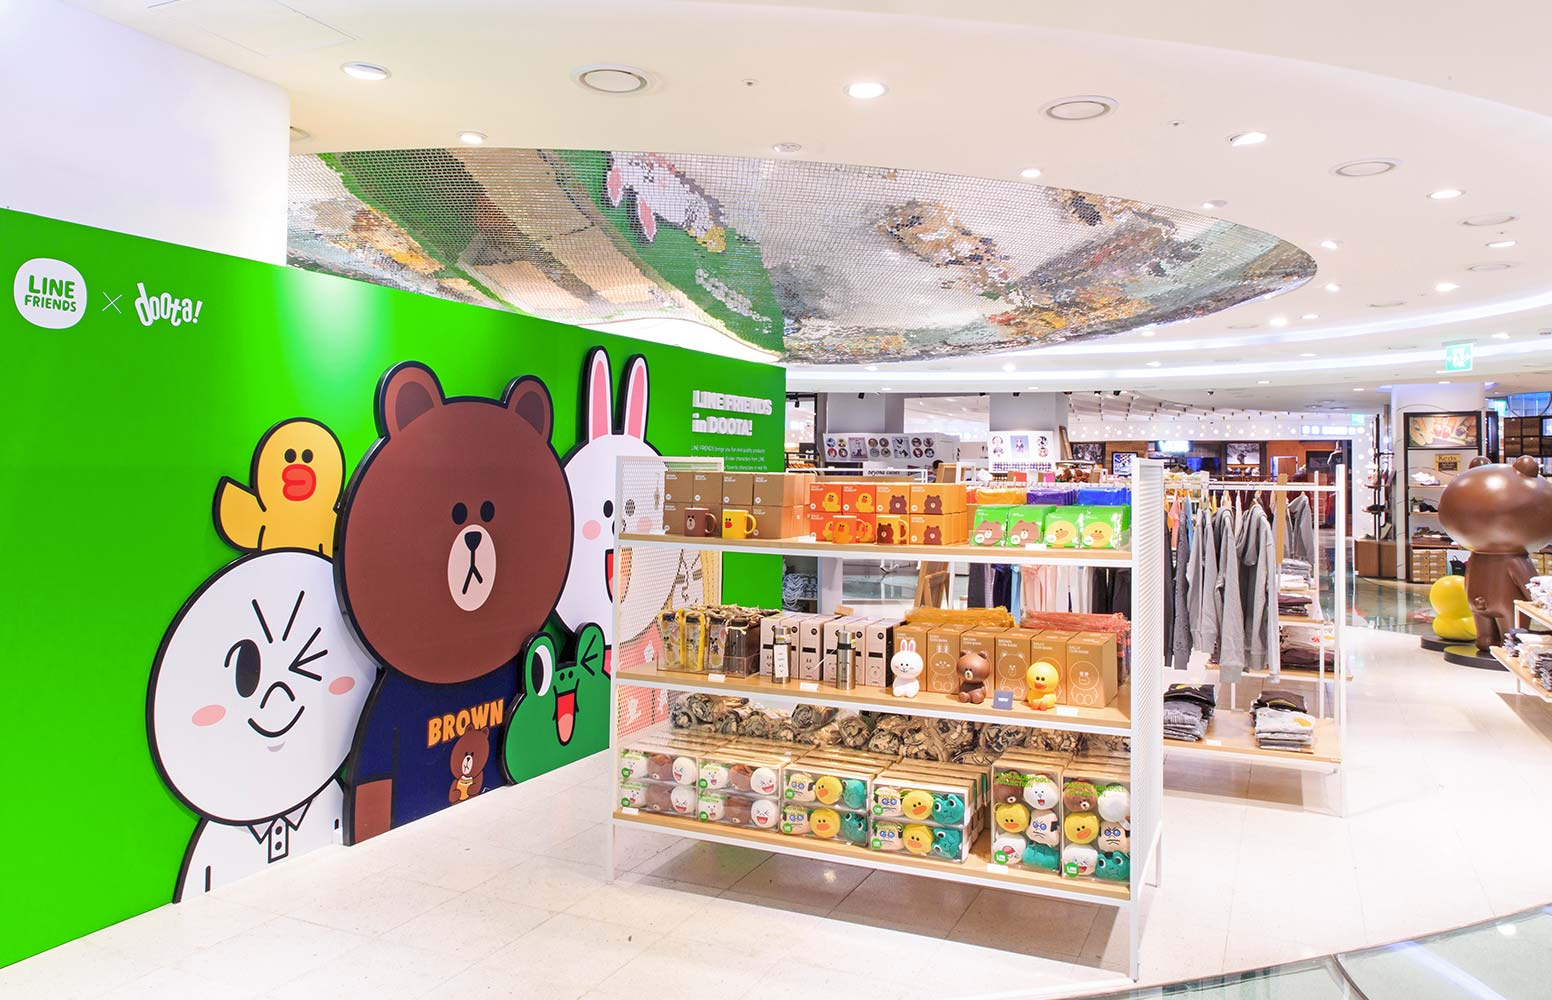line_brown: (331, 350, 584, 692)
